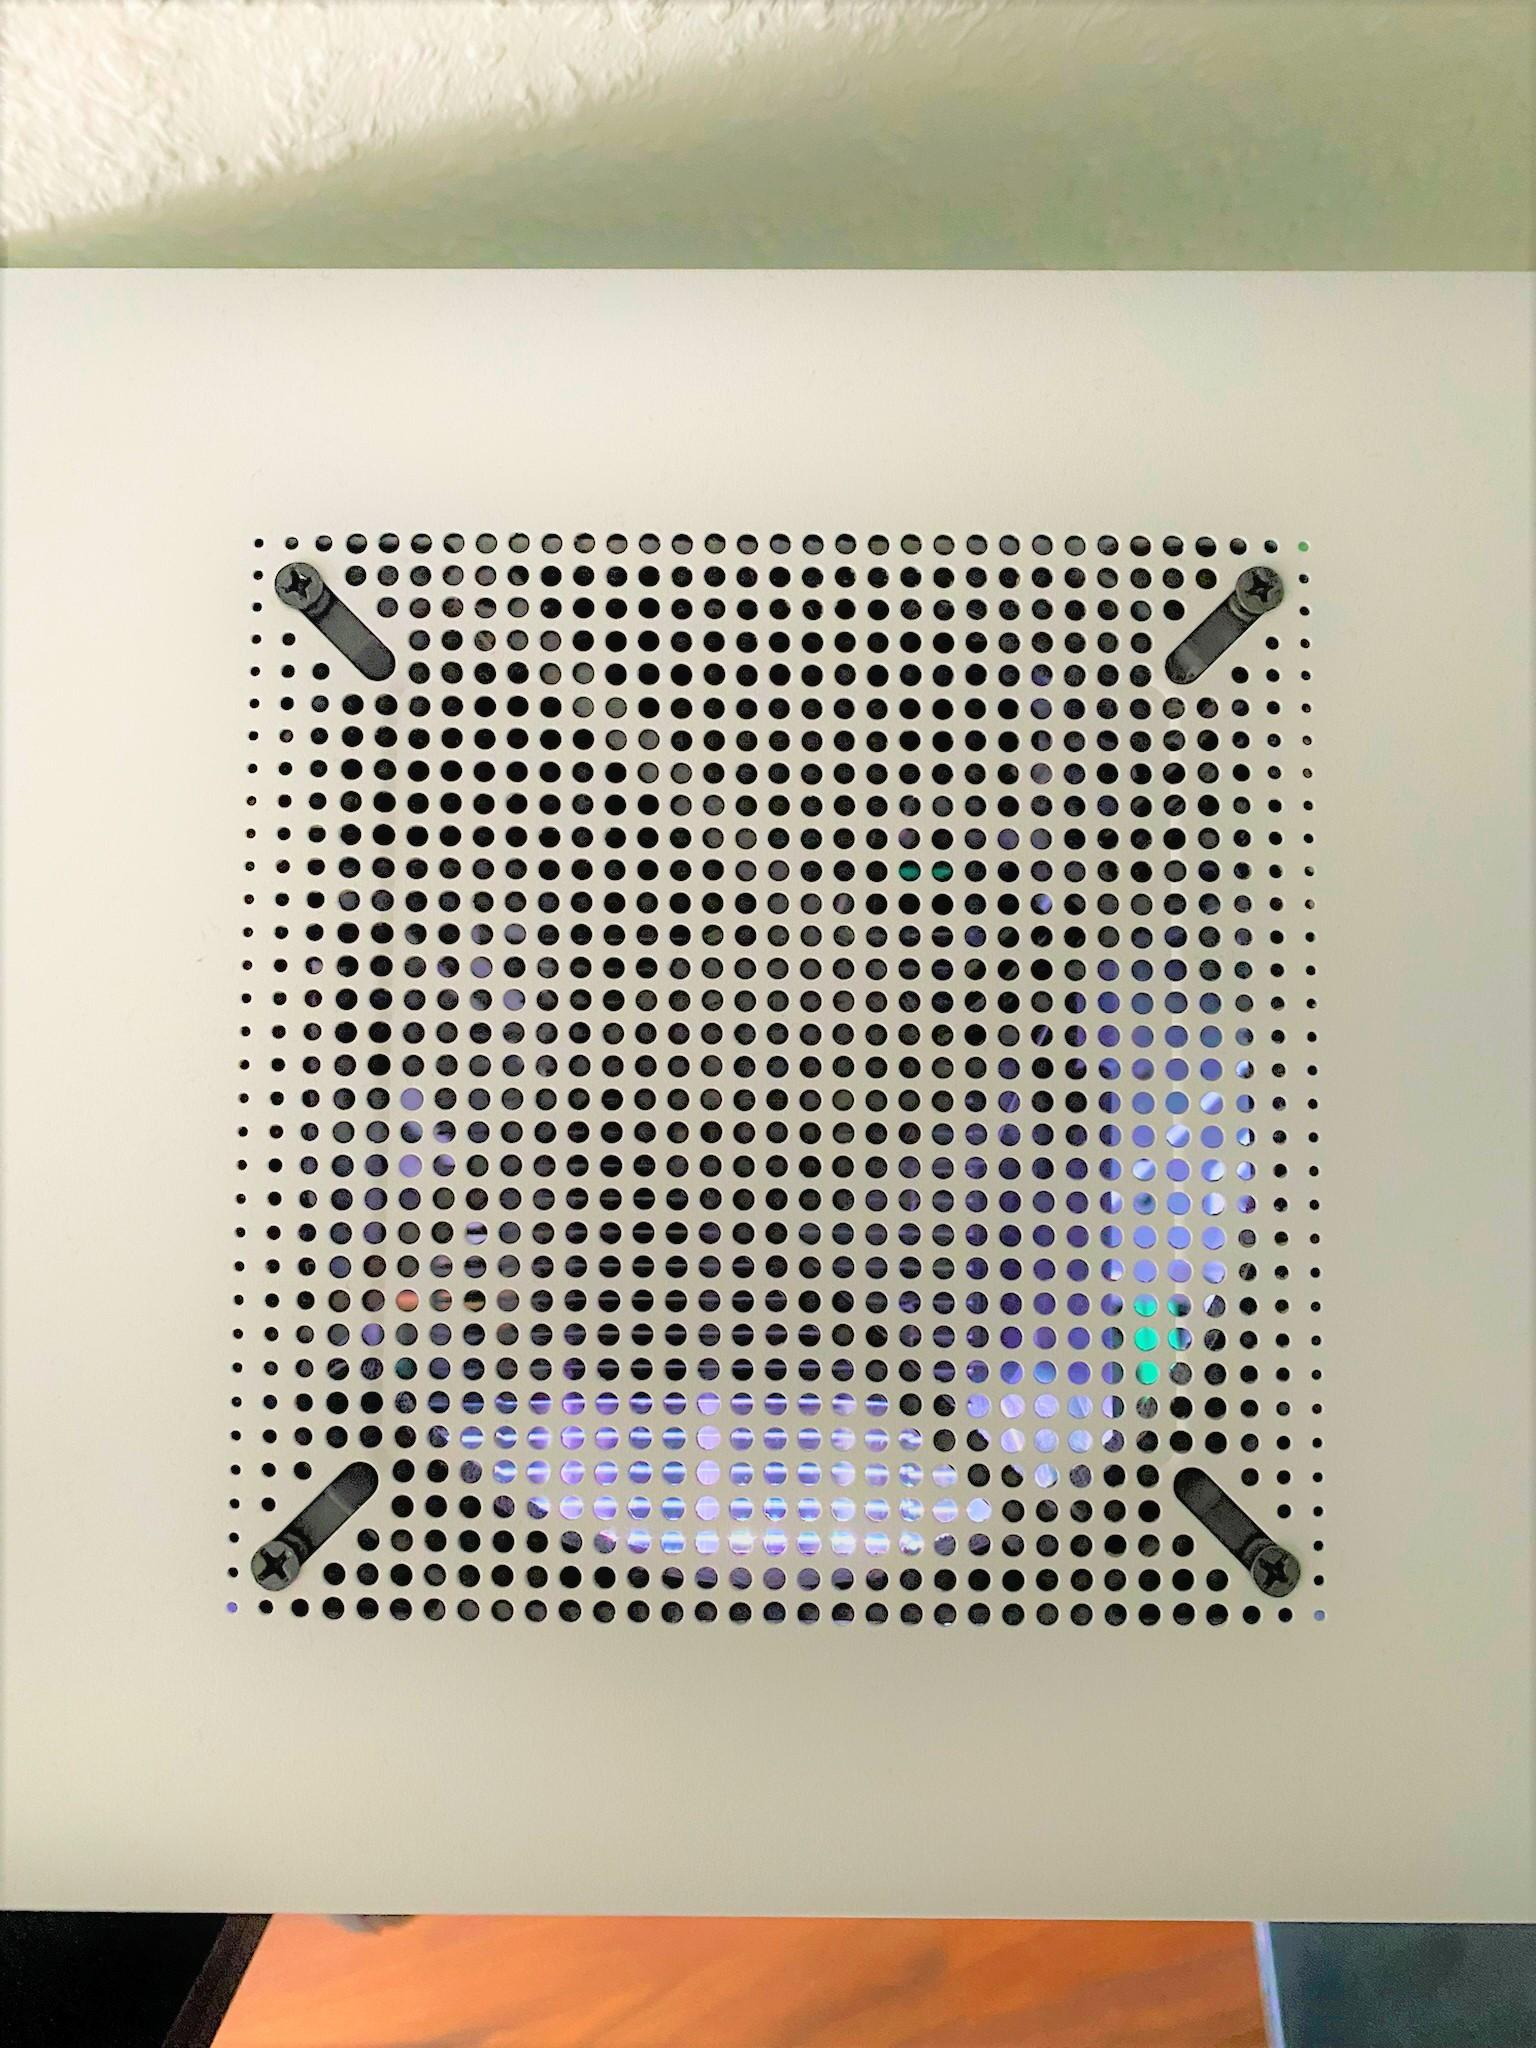PH: (245, 1535, 307, 1593), (1229, 563, 1288, 616), (1249, 1540, 1302, 1598), (273, 558, 324, 610)
